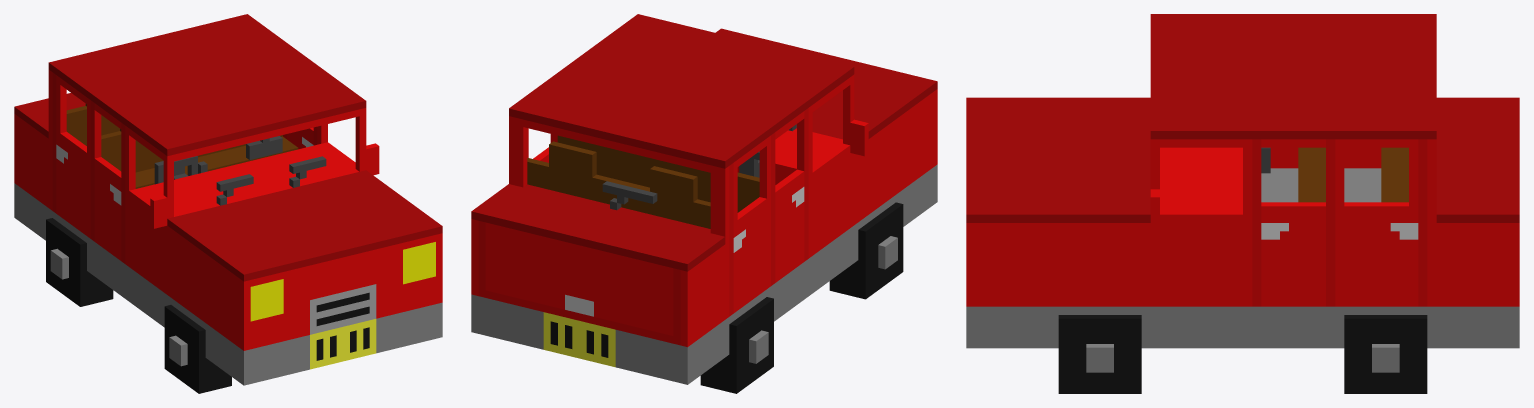
Rendered from redcar.fbx.
3 renders of one model, left to right at view 1: azimuth 30°, elevation 25°; view 2: azimuth 150°, elevation 25°; view 3: azimuth 270°, elevation 25°, orthographic. The views are drawn at different scales.
Visible parts, largest first — view 1: redcar; view 2: redcar; view 3: redcar.
Boxes of the visible parts, left/top/right/bottom form: redcar: left=14, top=14, right=442, bottom=393; redcar: left=471, top=14, right=937, bottom=393; redcar: left=966, top=14, right=1519, bottom=393.
Bounding box in the file's own units: 3400 × 3100 × 6000.
Materials: 1 (1 with a texture image).
